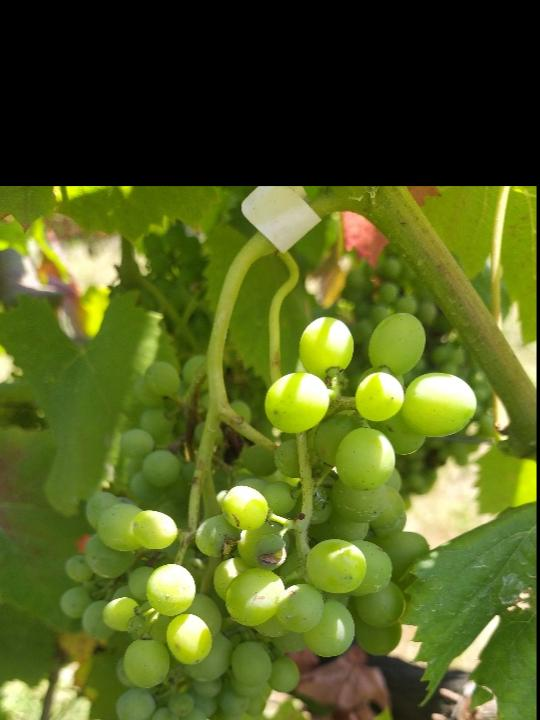grape: (59, 310, 480, 720)
